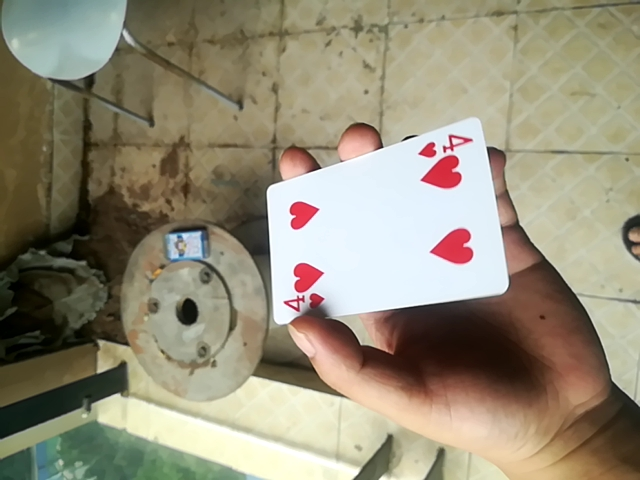hx 4: (259, 116, 508, 332)
